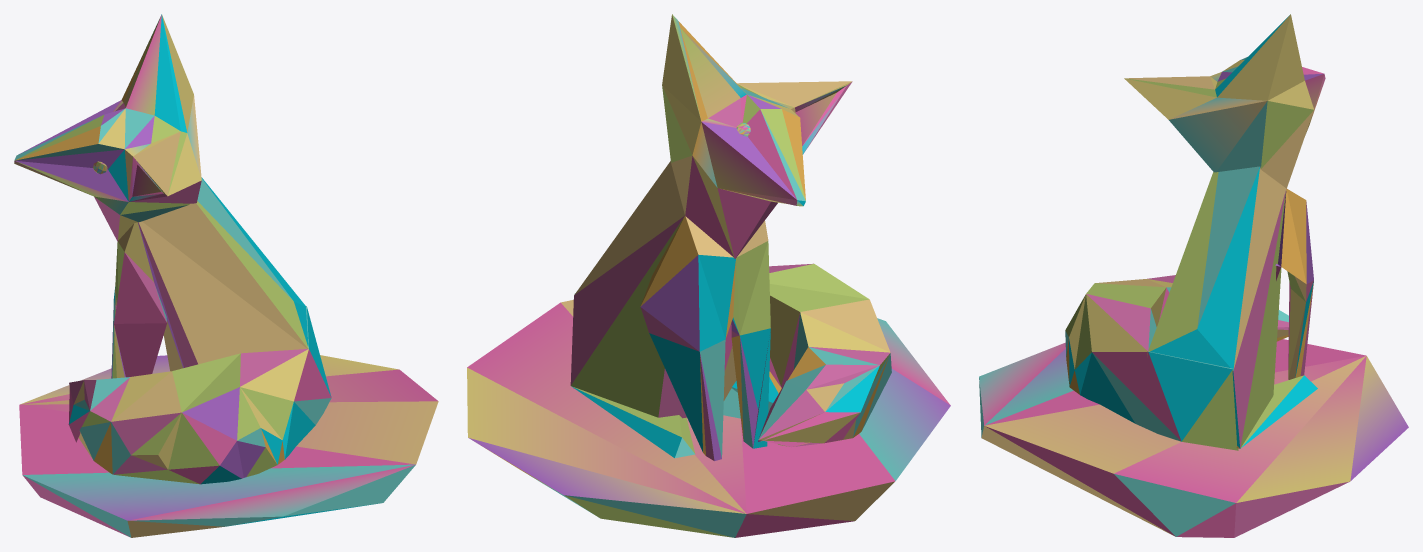
Rendered from alebrije_fox_spirit.glb.
3 views of the same model, side by side, from view 1: azimuth 30°, elevation 25°; view 2: azimuth 150°, elevation 25°; view 3: azimuth 270°, elevation 25° (orthographic). The views are drawn at different scales.
Parts seen in each view (by area): view 1: group1900056852, group125599753, group500549351, group1054568923; view 2: group1900056852, group500549351, group1054568923, group125599753; view 3: group1900056852, group500549351, group125599753, group1054568923.
Boxes of the visible parts, box(x1,y1,x2,y2) form: group1900056852: box(19, 355, 438, 537); group125599753: box(68, 306, 331, 484); group500549351: box(111, 177, 309, 378); group1054568923: box(14, 14, 201, 241); group1900056852: box(467, 300, 950, 537); group500549351: box(570, 161, 781, 461); group1054568923: box(662, 14, 852, 258); group125599753: box(573, 263, 891, 447); group1900056852: box(979, 339, 1408, 537); group500549351: box(1147, 166, 1317, 448); group125599753: box(1065, 275, 1288, 450); group1054568923: box(1124, 14, 1325, 188).
Size of the model in its own units: 1.47 by 1.6 by 1.44.
